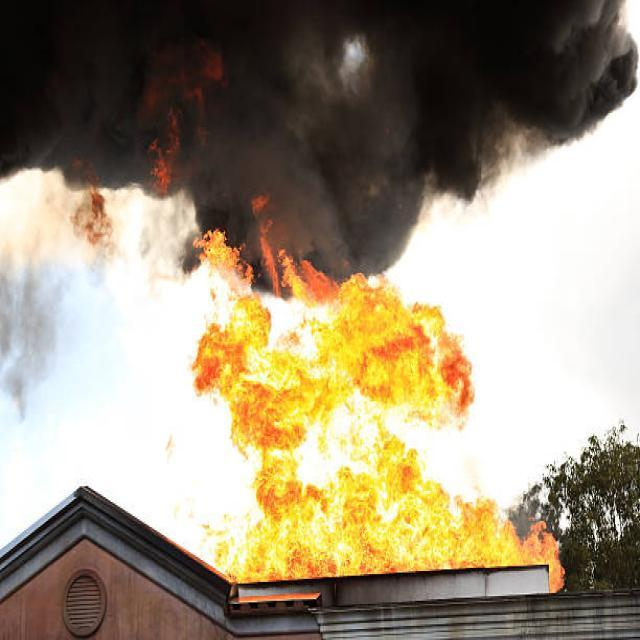Fire: (218, 229, 492, 562), (477, 506, 563, 564)
Smoke: (0, 0, 640, 157)
